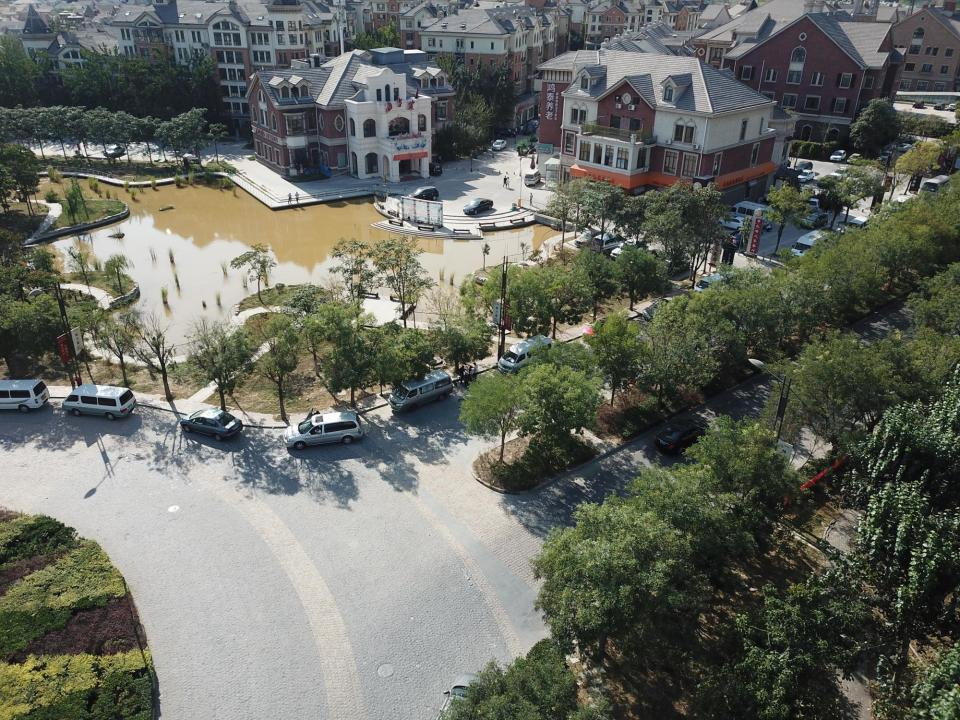bus: (921, 175, 951, 199)
car: (655, 418, 712, 454), (183, 408, 240, 441), (584, 316, 629, 345), (642, 297, 684, 321), (612, 237, 646, 260), (574, 227, 602, 250), (714, 216, 748, 232), (408, 185, 439, 202), (464, 198, 494, 215), (726, 229, 752, 247), (803, 212, 829, 230), (104, 142, 125, 158), (899, 138, 926, 150), (890, 142, 917, 153), (796, 168, 814, 182), (794, 160, 812, 174), (880, 150, 895, 166), (832, 165, 849, 179), (829, 149, 846, 163), (818, 174, 836, 187), (492, 138, 506, 152), (522, 123, 536, 135), (847, 153, 861, 164), (912, 100, 924, 108), (529, 120, 538, 130), (947, 103, 957, 112), (933, 103, 945, 110)
van: (283, 412, 362, 450), (387, 369, 453, 414), (61, 384, 137, 420), (498, 334, 555, 375), (0, 379, 50, 413), (732, 200, 774, 228), (692, 271, 736, 297), (791, 230, 830, 258), (887, 193, 913, 221), (844, 215, 874, 239), (593, 234, 625, 252), (791, 196, 819, 212), (524, 168, 541, 186), (425, 162, 443, 176)
